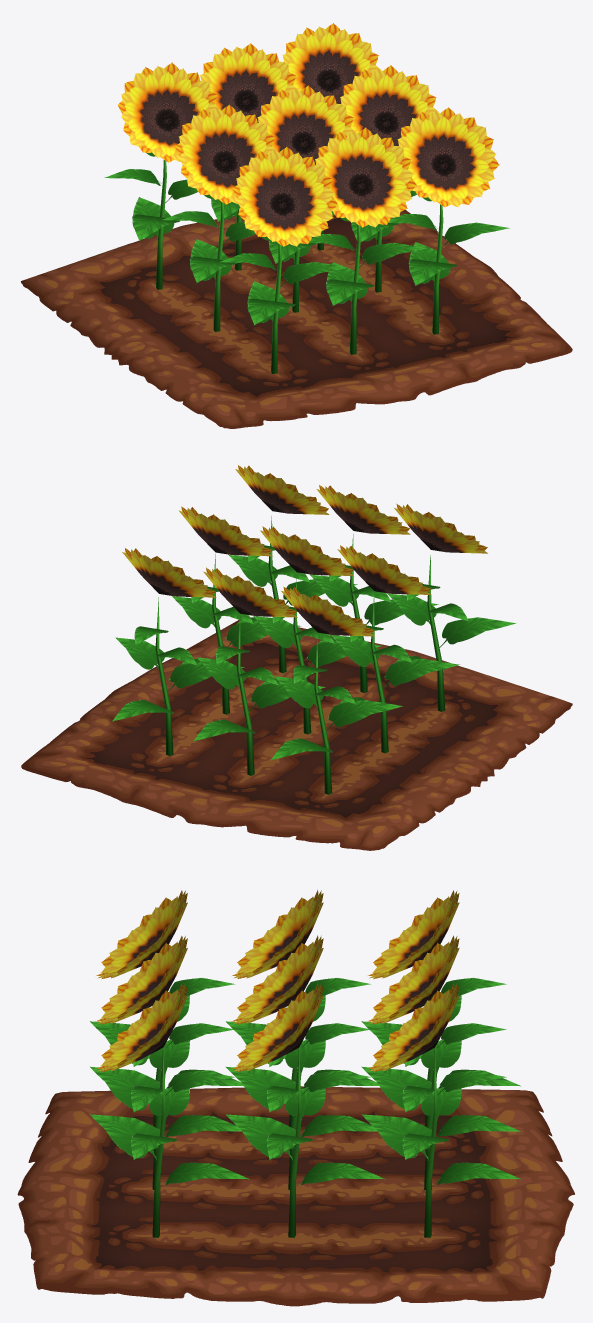
The model's file is SunFlower_Field_Lv3.FBX.
3 views of the same model, one above another, from view 1: azimuth 30°, elevation 25°; view 2: azimuth 150°, elevation 25°; view 3: azimuth 270°, elevation 25° (orthographic). The views are drawn at different scales.
Visible parts, largest first — view 1: SunFlower_Field_Lv3; view 2: SunFlower_Field_Lv3; view 3: SunFlower_Field_Lv3.
Boxes of the visible parts, x1,y1,x2,y2 form: SunFlower_Field_Lv3: (21, 23, 572, 428); SunFlower_Field_Lv3: (21, 465, 572, 850); SunFlower_Field_Lv3: (17, 890, 574, 1306).
Size of the model in its own units: 274 by 154 by 296.
